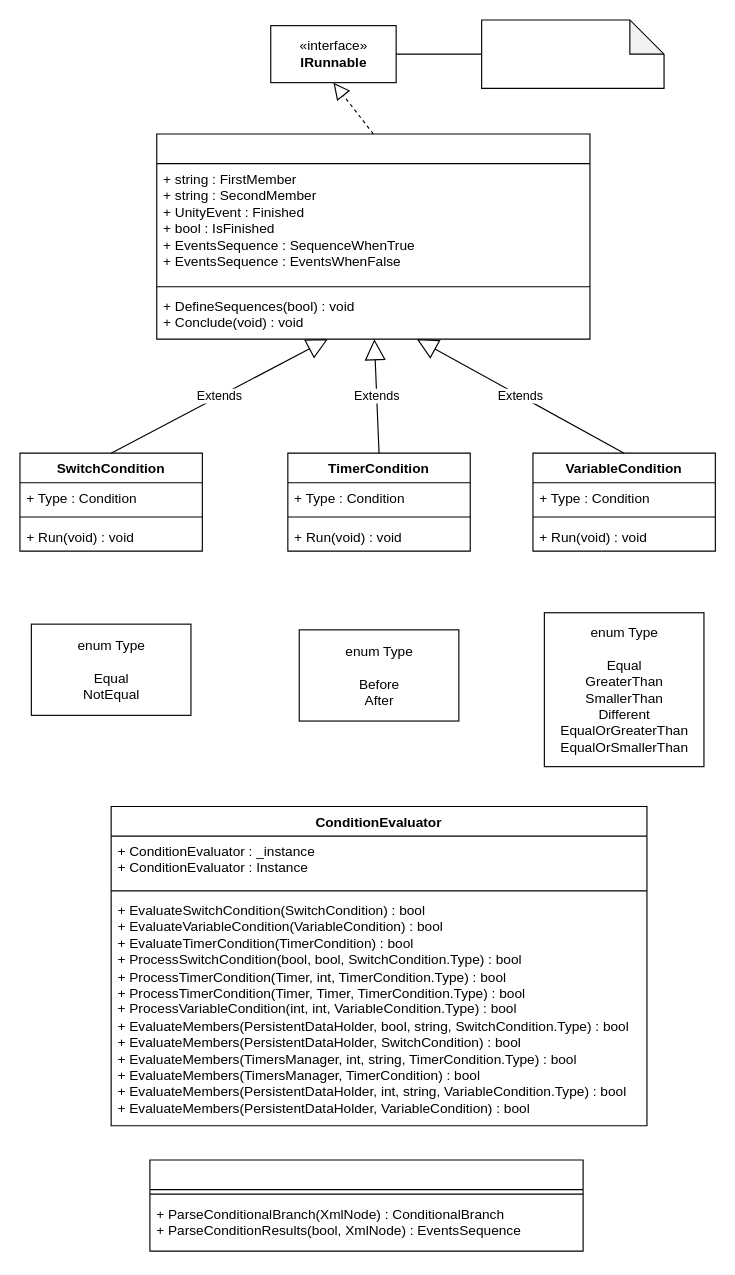
Some shapes in this 735 by 1275 pixel diagram are drawn without their labels. Here are the shapes that lost their labels. From the top down, the box of each, then its label:
(481, 19, 664, 88): See Engine.Events
(156, 133, 590, 339): ConditionalBranch
(149, 1159, 583, 1251): XmlFlowControlParser
